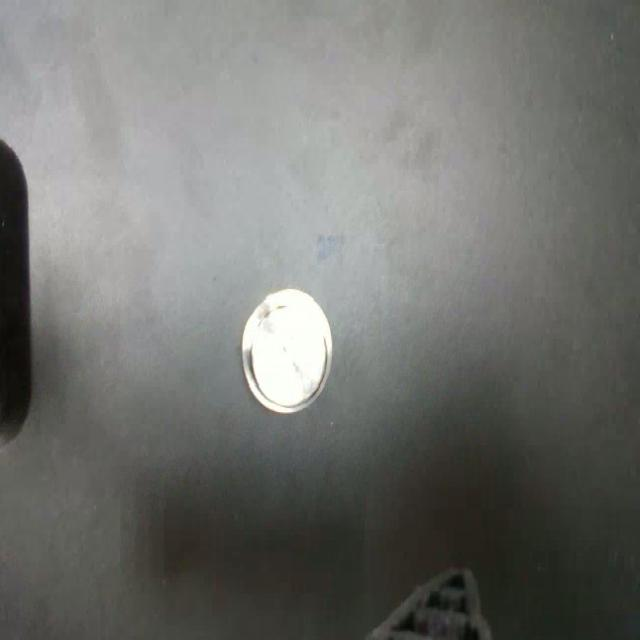sensor: (240, 287, 334, 413)
